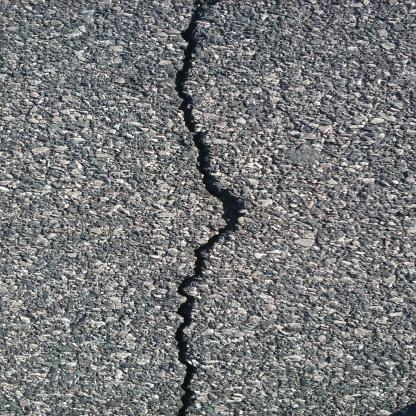Cracks: (158, 1, 255, 416)
